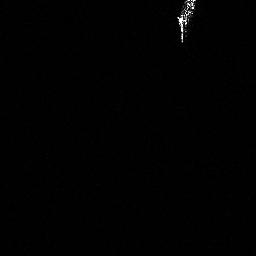ship: (174, 1, 200, 44)
